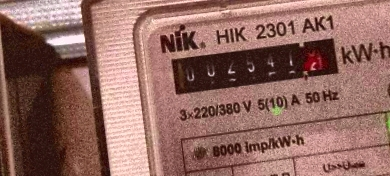0: (182, 60, 197, 83), (202, 56, 217, 78)
1: (282, 44, 296, 68)
2: (222, 52, 238, 76)
4: (263, 46, 276, 69)
5: (242, 50, 257, 74)
6: (306, 57, 319, 71)
screen: (157, 26, 351, 102)
